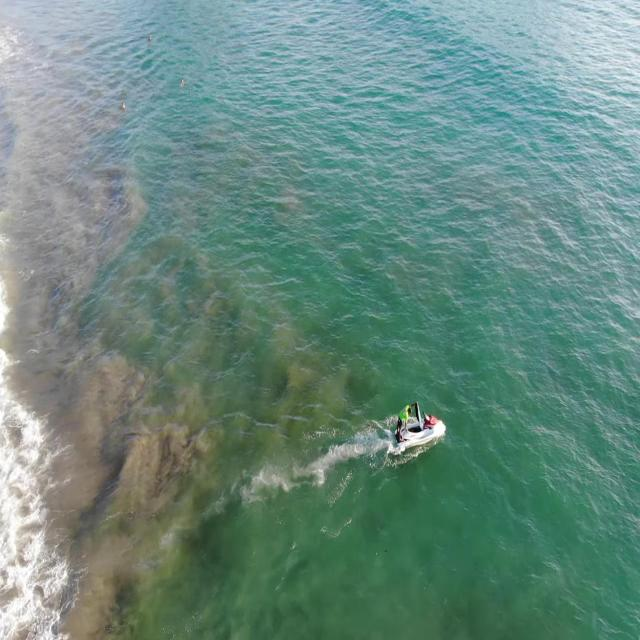boat: (388, 398, 446, 454)
